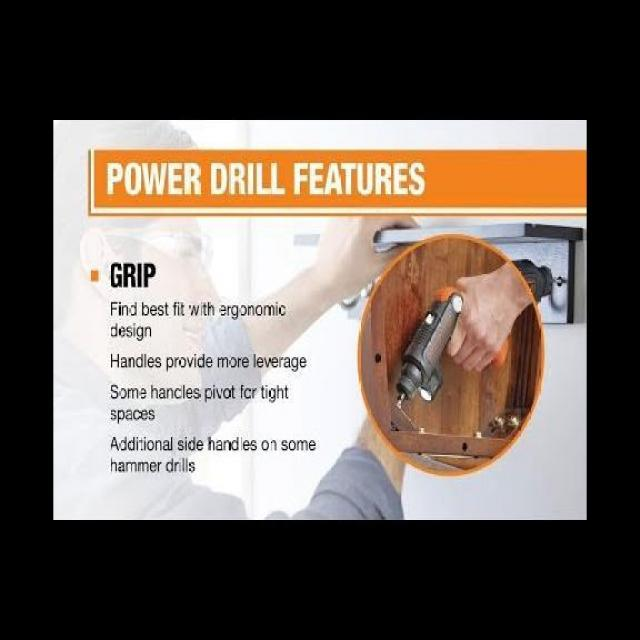drill: (396, 284, 508, 408), (514, 258, 564, 306)
